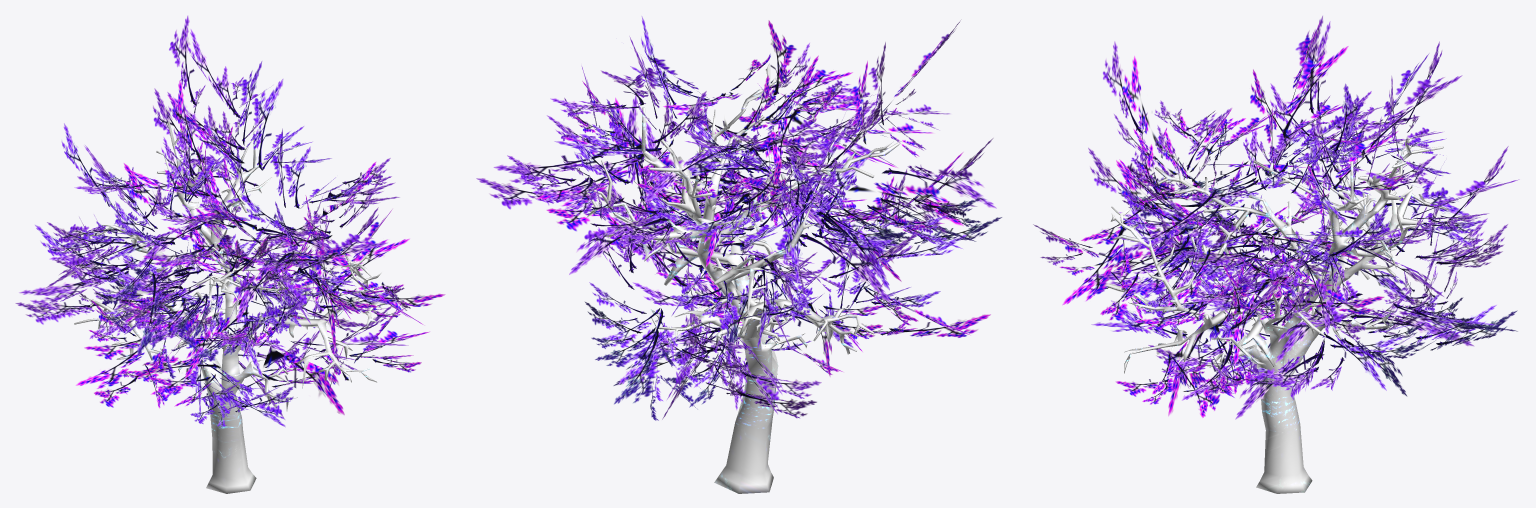
Rendered from sakura.glb.
The picture shows the model from 3 angles, left to right: view 1: azimuth 30°, elevation 25°; view 2: azimuth 150°, elevation 25°; view 3: azimuth 270°, elevation 25°; orthographic projection. The views are drawn at different scales.
Parts seen in each view (by area): view 1: Feuille1, Plane.002, Tronc; view 2: Feuille1, Plane.002, Tronc; view 3: Feuille1, Plane.002, Tronc.
Boxes of the visible parts, box(x1,y1,x2,y2) form: Feuille1: box(30, 15, 445, 427); Plane.002: box(15, 18, 441, 425); Tronc: box(74, 121, 394, 493); Feuille1: box(476, 17, 990, 400); Plane.002: box(477, 19, 1001, 420); Tronc: box(584, 63, 899, 493); Feuille1: box(1052, 21, 1519, 419); Plane.002: box(1033, 16, 1517, 418); Tronc: box(1095, 137, 1449, 493).
Bounding box in the file's own units: 4.68 × 5.12 × 4.93.
Materials: 7 (6 with a texture image).
